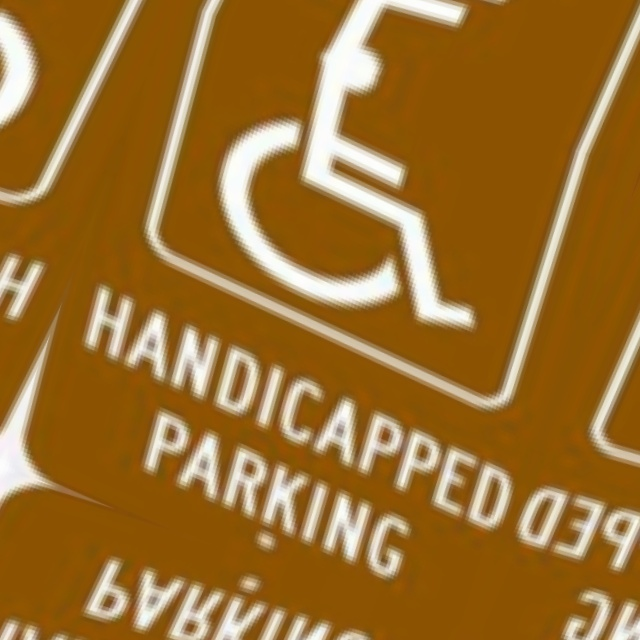ISA: (169, 30, 545, 369), (254, 0, 631, 138), (0, 0, 93, 200)
